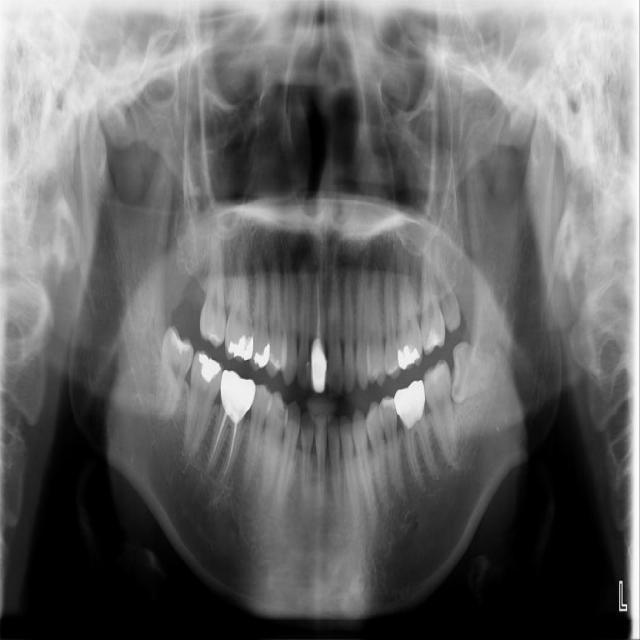52: (184, 348, 228, 405), (215, 369, 258, 425), (394, 305, 424, 372), (392, 380, 429, 433), (223, 309, 256, 363), (264, 323, 288, 379), (249, 320, 270, 373), (310, 336, 328, 396)
73: (200, 407, 248, 491), (311, 267, 329, 339), (600, 575, 606, 601)
BioHorizons Implant: (420, 239, 446, 354)
BioLife Implant: (433, 242, 463, 334)
Biomet 3i Implant: (446, 340, 500, 408)
Blue Sky Bio Implant: (421, 359, 461, 463)
Caries: (199, 213, 226, 348)
Implant: (181, 348, 227, 464)
Keystone Dental Implant: (151, 324, 197, 426)
